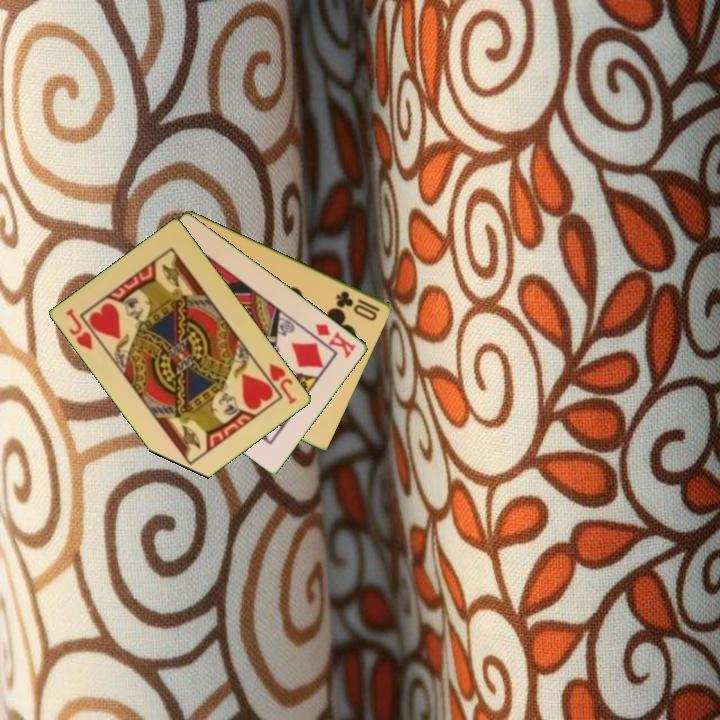10c: (333, 287, 383, 324)
Jh: (266, 359, 300, 407), (62, 305, 96, 353)
Kd: (312, 320, 359, 361)
